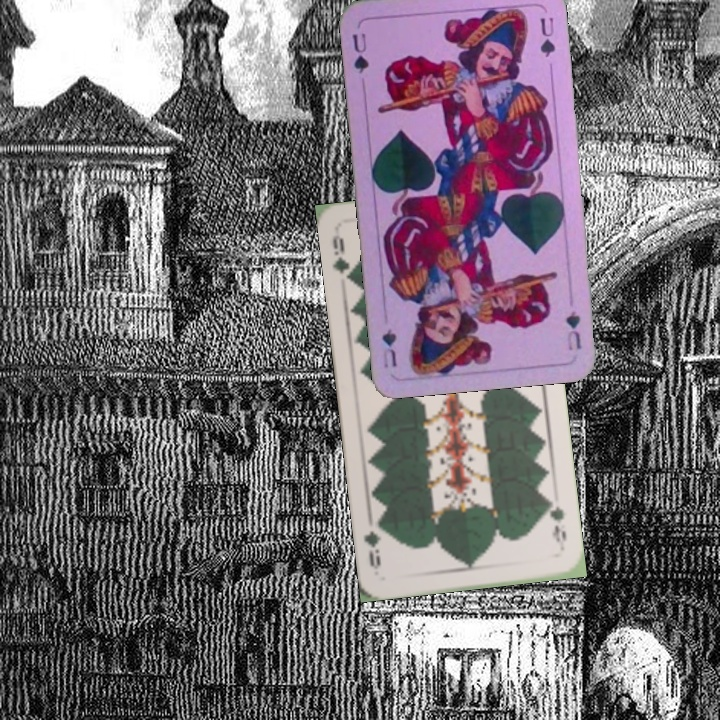G9: (328, 227, 357, 285), (543, 495, 569, 553)
GU: (348, 28, 372, 76), (562, 307, 584, 353)
